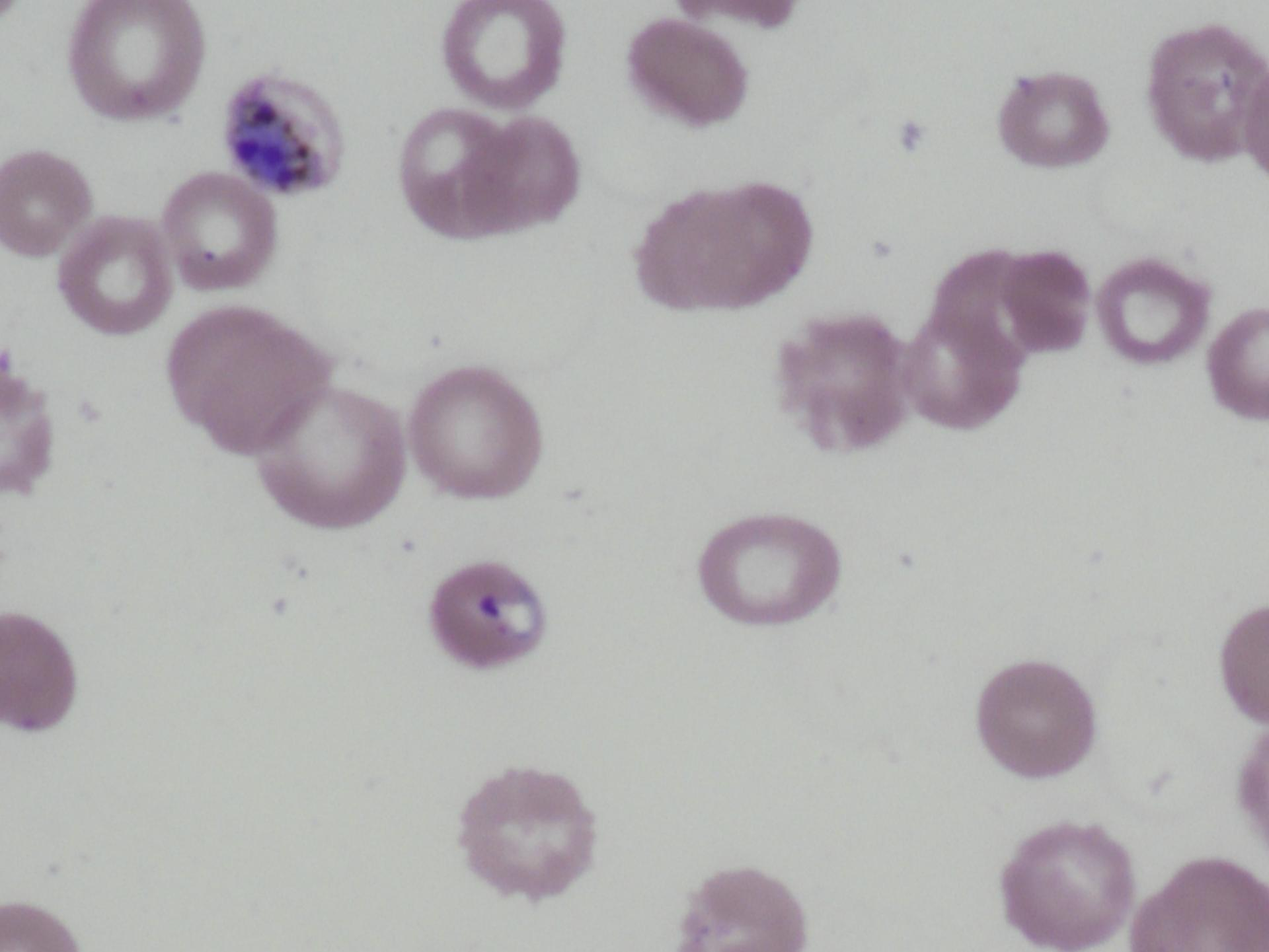Infected: (234, 78, 350, 191), (431, 560, 544, 664)
Uninfected: (167, 307, 327, 453), (401, 110, 576, 237), (635, 186, 807, 309), (256, 393, 402, 529), (459, 770, 592, 901), (409, 369, 541, 499), (775, 320, 903, 449), (1002, 826, 1129, 948), (1149, 24, 1262, 161), (71, 1, 202, 118), (699, 516, 834, 624), (57, 217, 174, 333), (977, 663, 1093, 776), (908, 311, 1022, 425), (163, 173, 276, 288), (443, 0, 561, 106), (627, 19, 746, 124), (1096, 259, 1206, 359), (1000, 73, 1106, 166), (927, 254, 1034, 346), (993, 252, 1091, 352), (0, 150, 93, 253)
